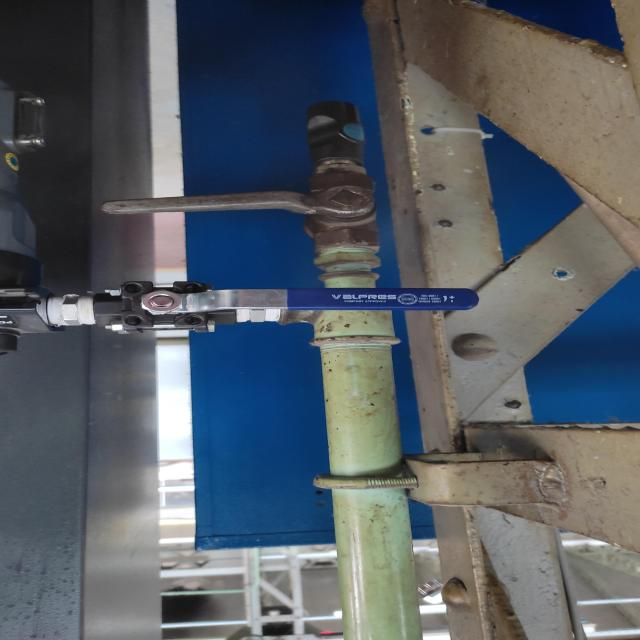closed_valve: (98, 167, 388, 252)
opened_valve: (94, 279, 482, 336)
